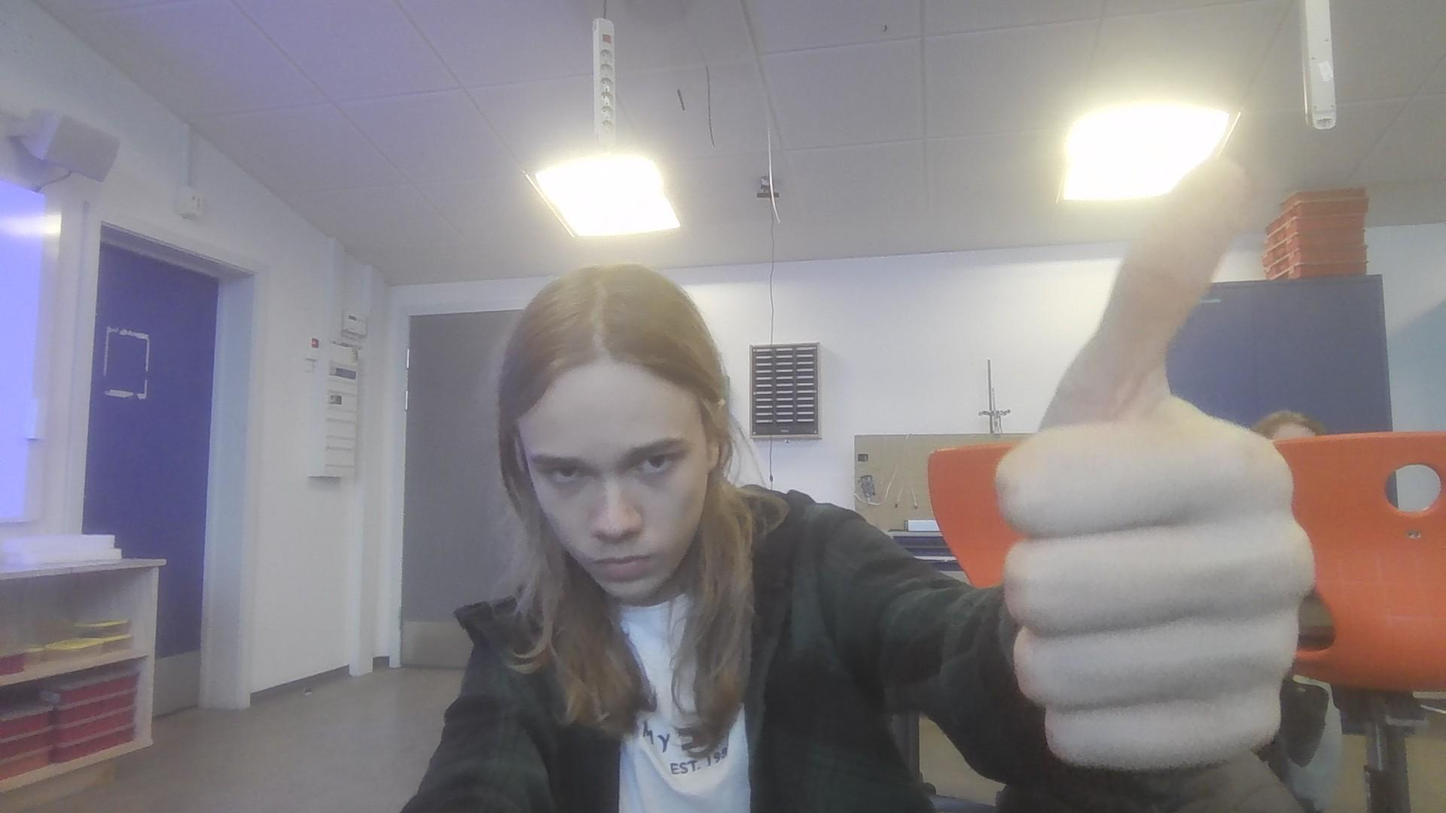thumbs up: (993, 162, 1310, 760)
